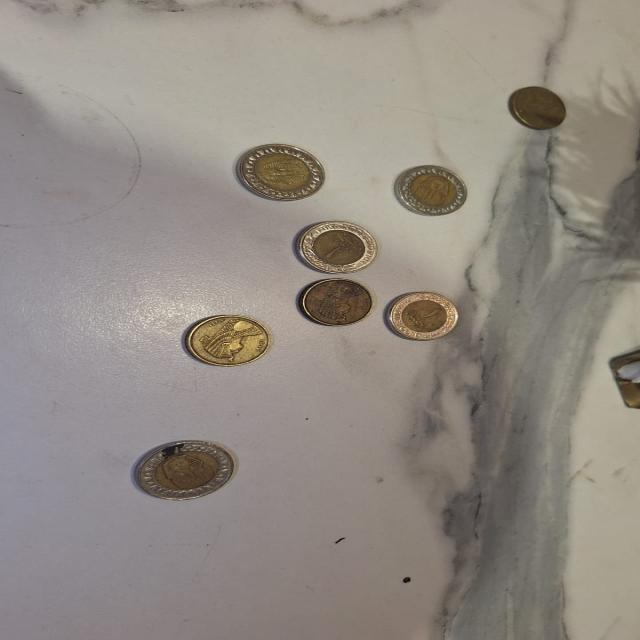Half Pound: (180, 315, 281, 365), (292, 275, 376, 330), (503, 78, 572, 141)
One Pound: (117, 440, 246, 492), (239, 140, 330, 204), (294, 219, 376, 271), (396, 163, 474, 217), (392, 290, 465, 342)
